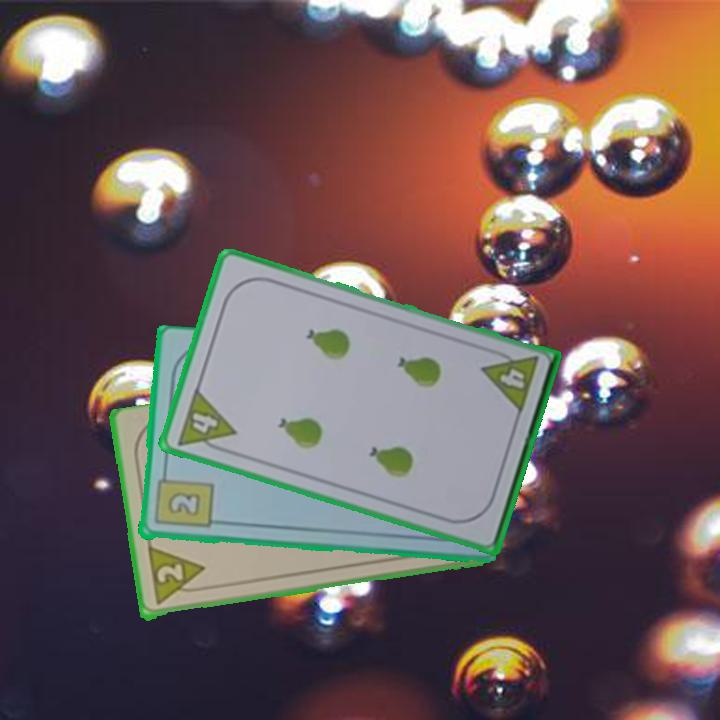2b: (151, 467, 215, 532)
2p: (144, 545, 210, 609)
4p: (174, 384, 239, 458), (478, 345, 541, 417)
